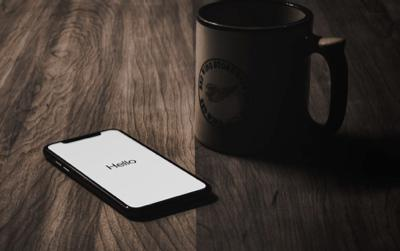cell-phone: (40, 123, 216, 225)
